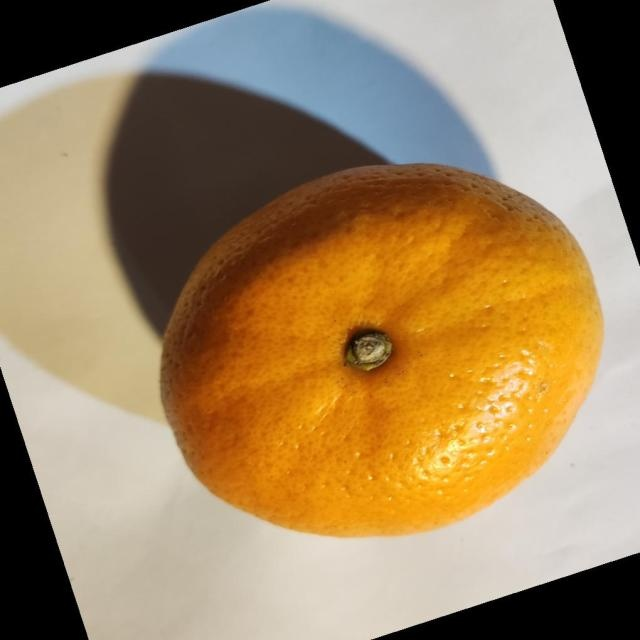agrume: (158, 161, 604, 538)
